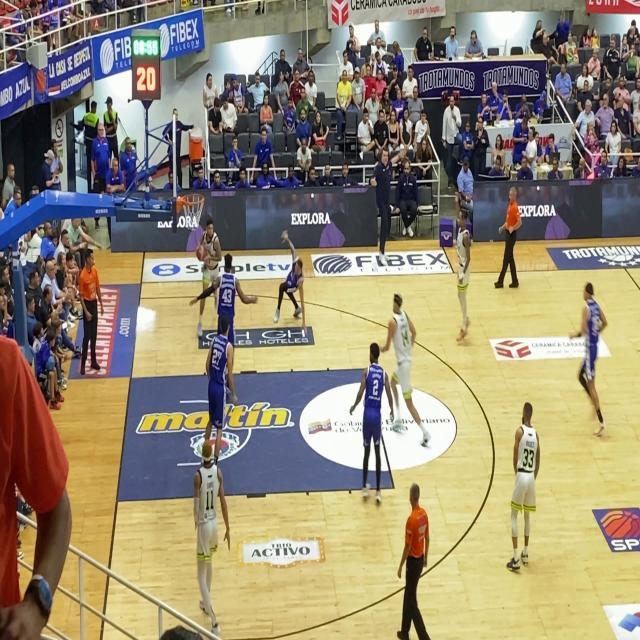Ball: (193, 240, 210, 262)
referee: (396, 474, 437, 640), (72, 243, 109, 385), (492, 178, 524, 300)
team1: (182, 437, 230, 632), (498, 391, 544, 575), (382, 278, 431, 450), (447, 206, 475, 358), (192, 212, 220, 331)
team2: (568, 274, 616, 448), (346, 340, 389, 516), (268, 216, 312, 352), (201, 316, 241, 459), (195, 246, 258, 333)
ubasket: (180, 188, 204, 234)
